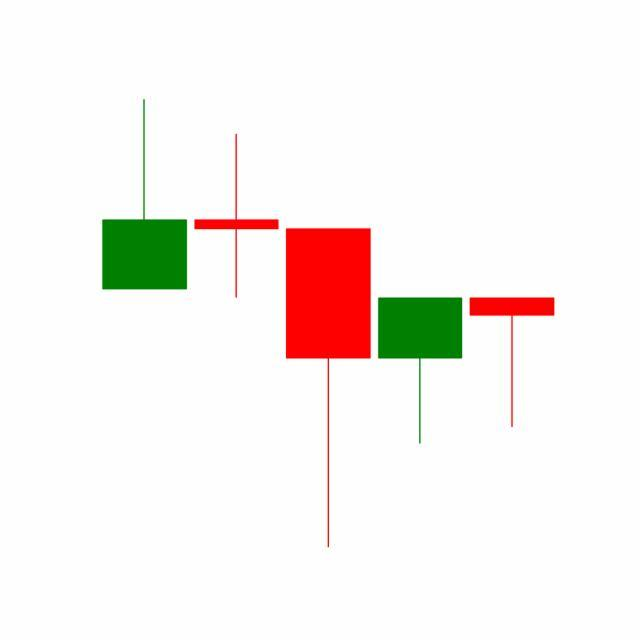Hanging Man: (466, 297, 559, 430)
